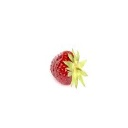strawberry: (48, 47, 88, 89)
